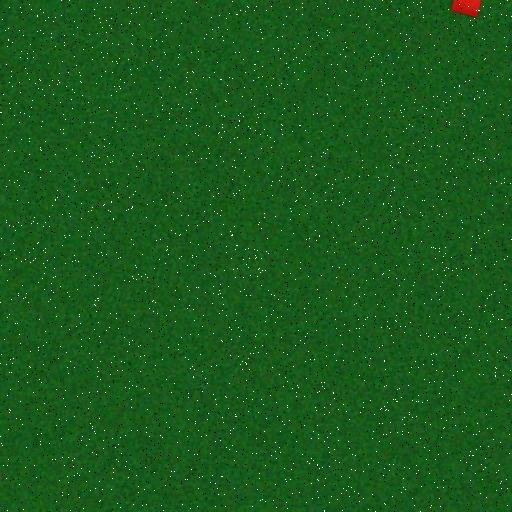RED_SQUARE: (450, 0, 484, 18)
